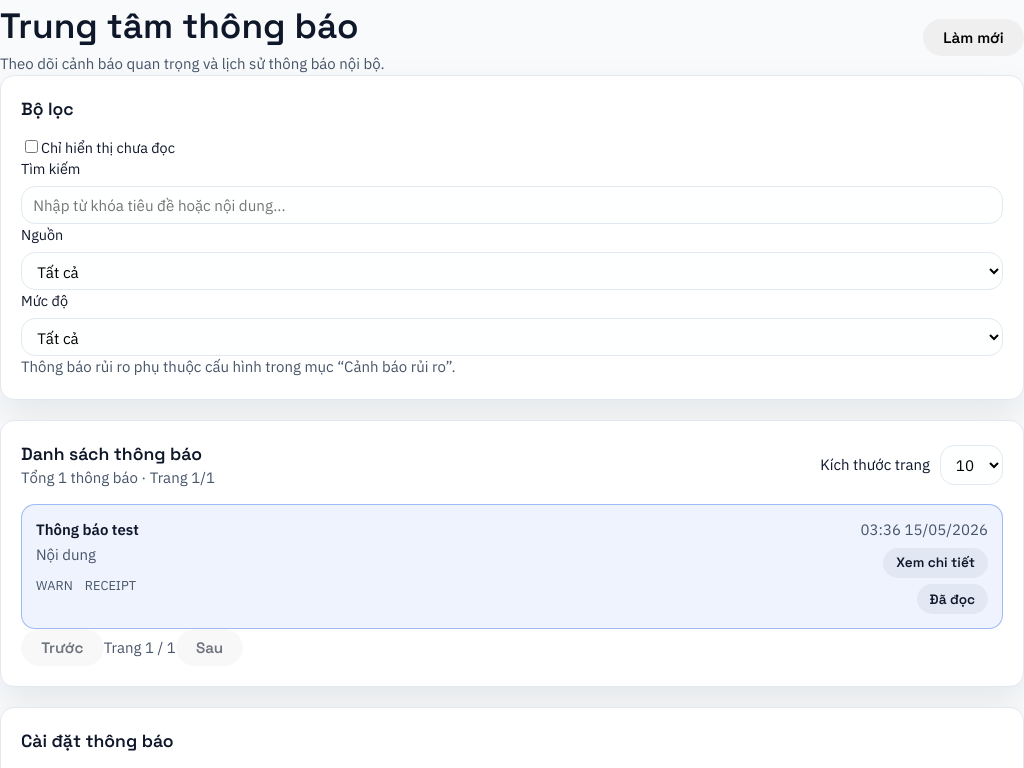
Test: NotificationsPage › opens detail modal when clicking view detail
The image size is (1024, 768).
Click the button "Xem chi tiết": (936,563) [883,548,988,578]
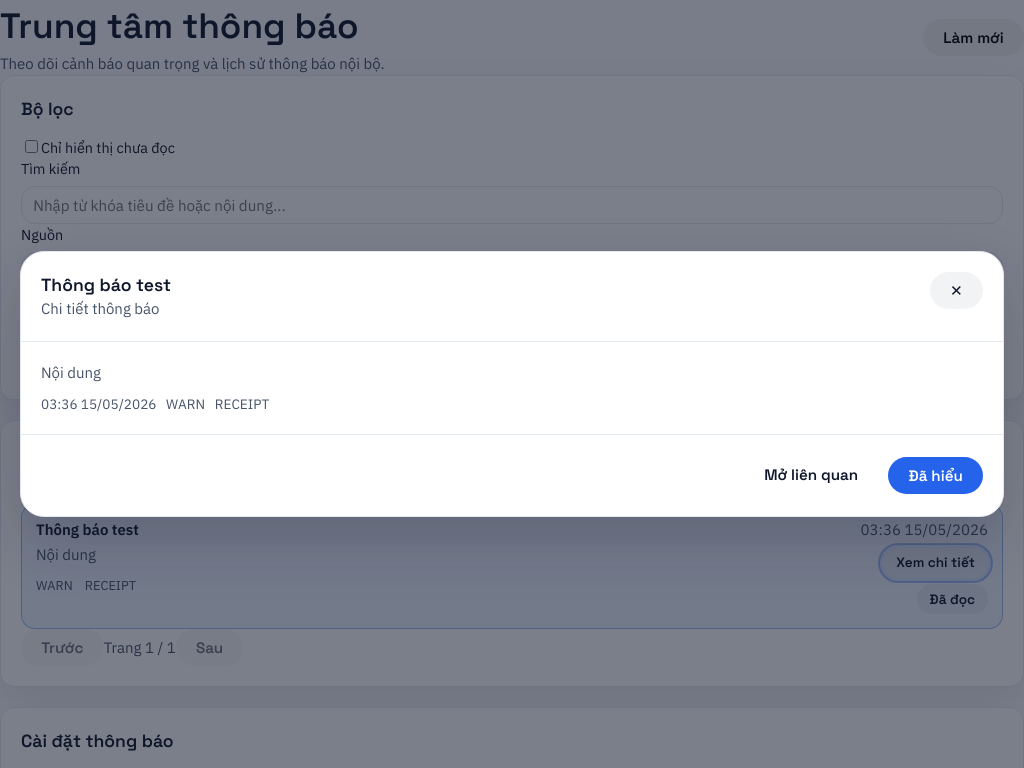
Expected: the dialog shows "Thông báo test", [41,274,171,296]
Expected: the dialog shows "Nội dung", [41,363,101,382]
